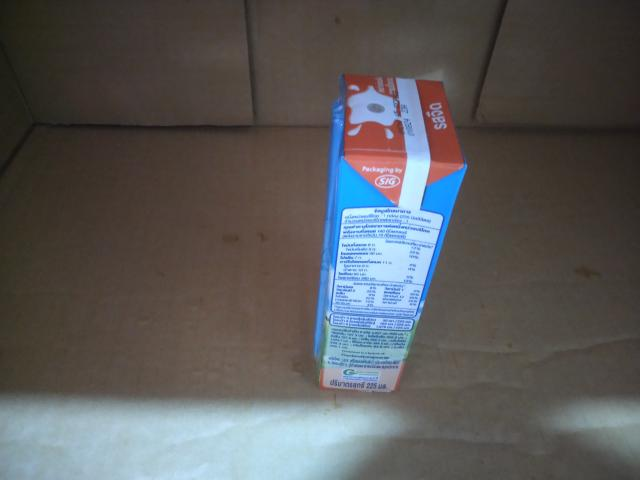drink_box: (304, 50, 472, 403)
